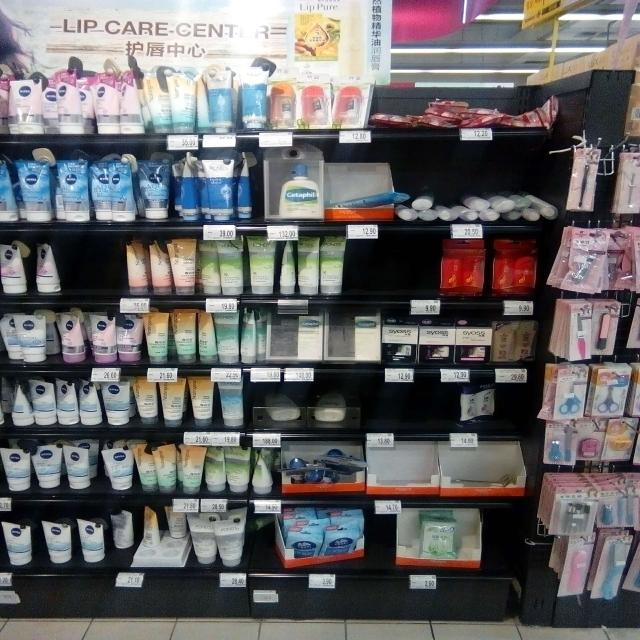void: (361, 378, 450, 430), (360, 237, 434, 299), (74, 240, 122, 298), (368, 507, 408, 571)
